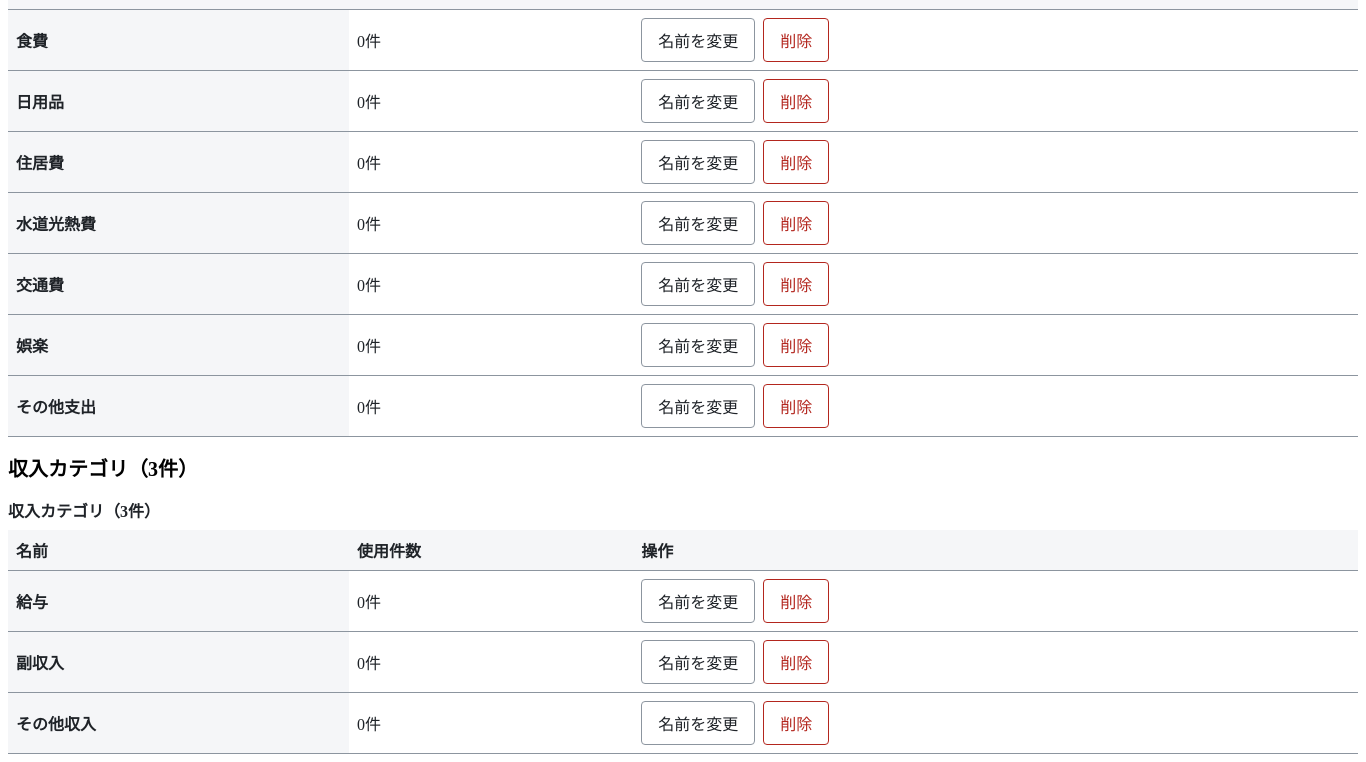
カテゴリの削除 › 種別の最後の1件は削除せず、理由を行の下に出す（BR3.4）
(page scrolled)
Click the button "削除" in the row of "給与".
click(796, 601)  # box [763,579,829,623]
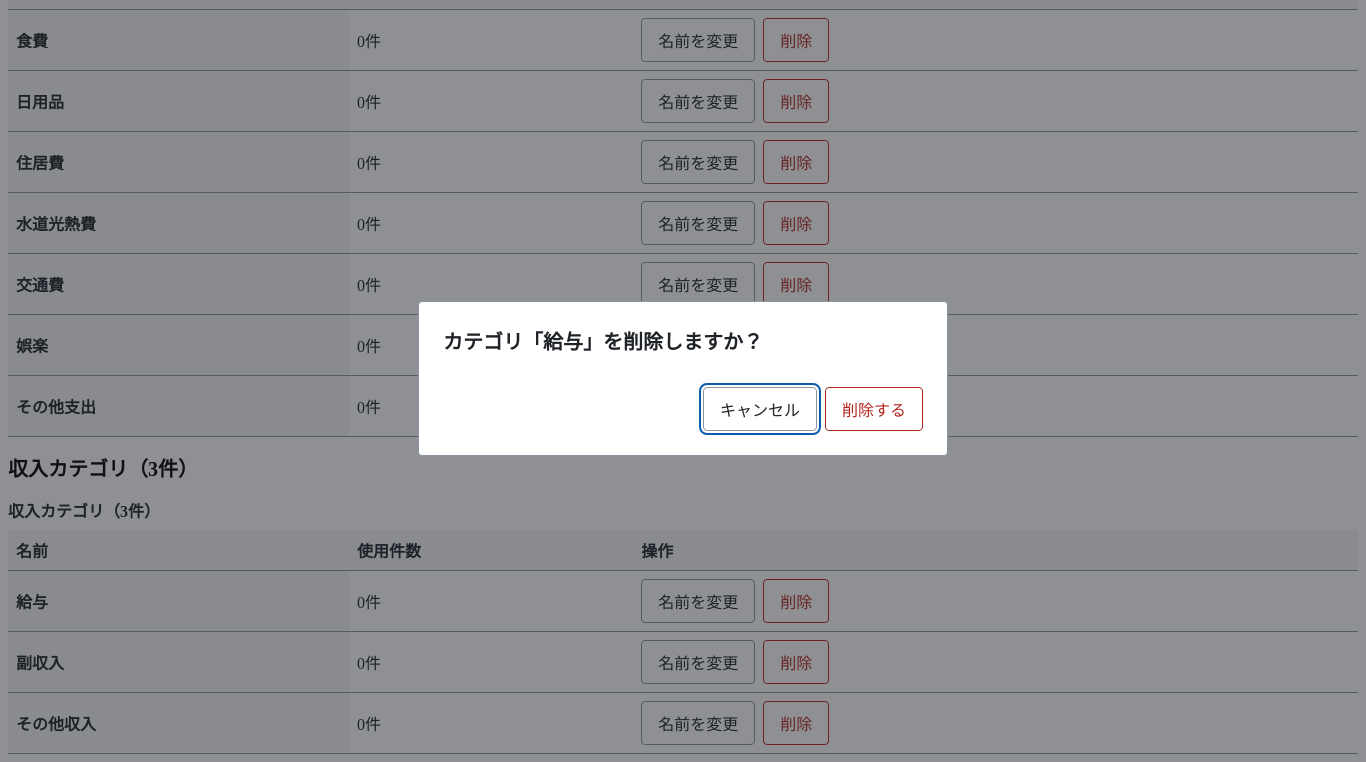
Click the button "削除する".
click(874, 408)  # box [825,386,923,430]
(page scrolled)
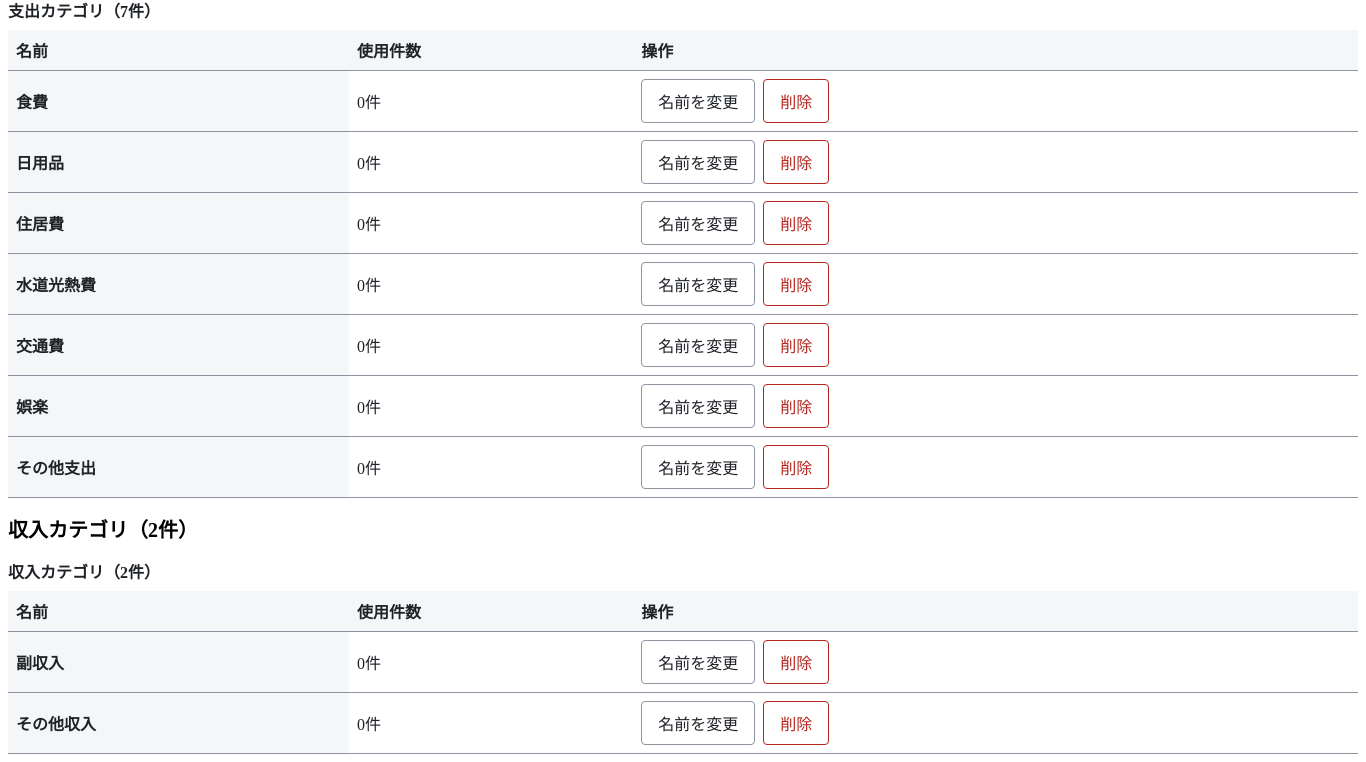
Click the button "削除" in the row of "副収入".
click(796, 662)  # box [763,640,829,684]
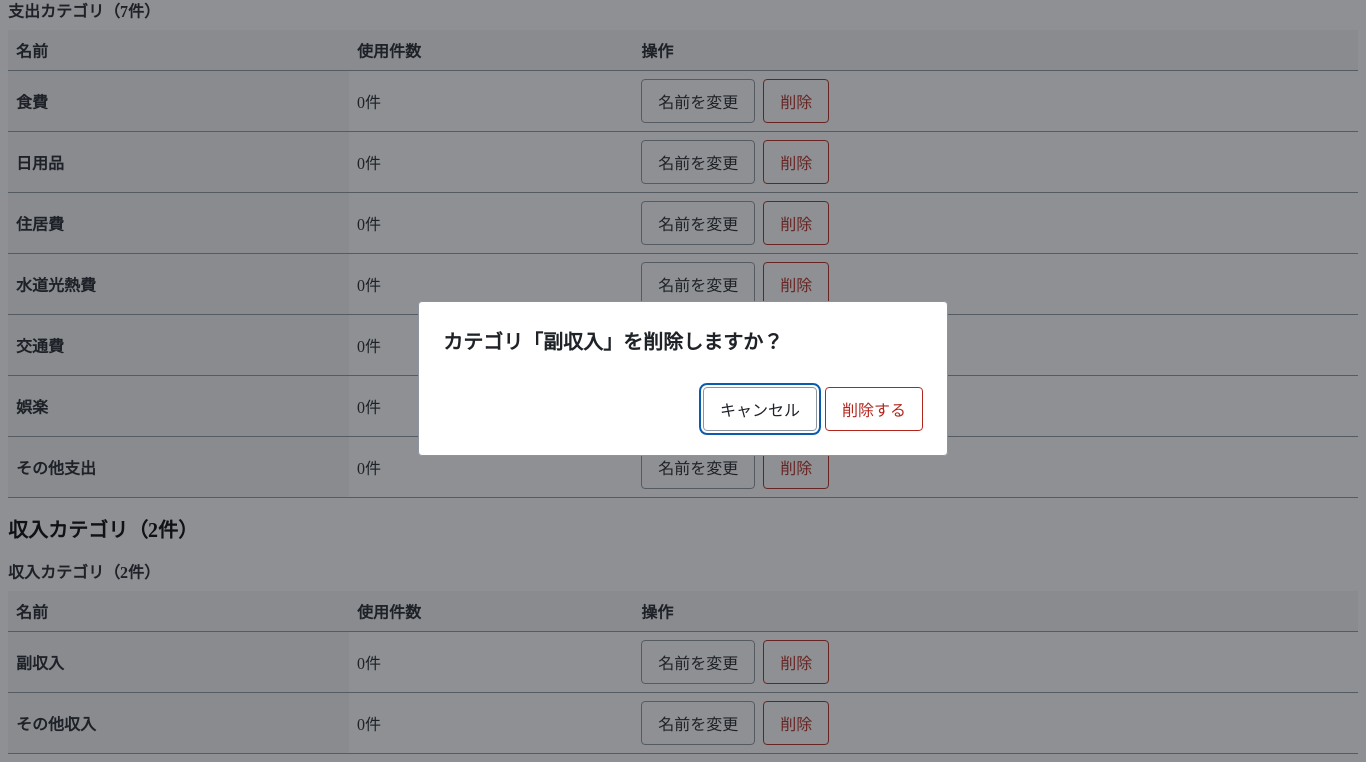
Click the button "削除する".
click(874, 408)  # box [825,386,923,430]
(page scrolled)
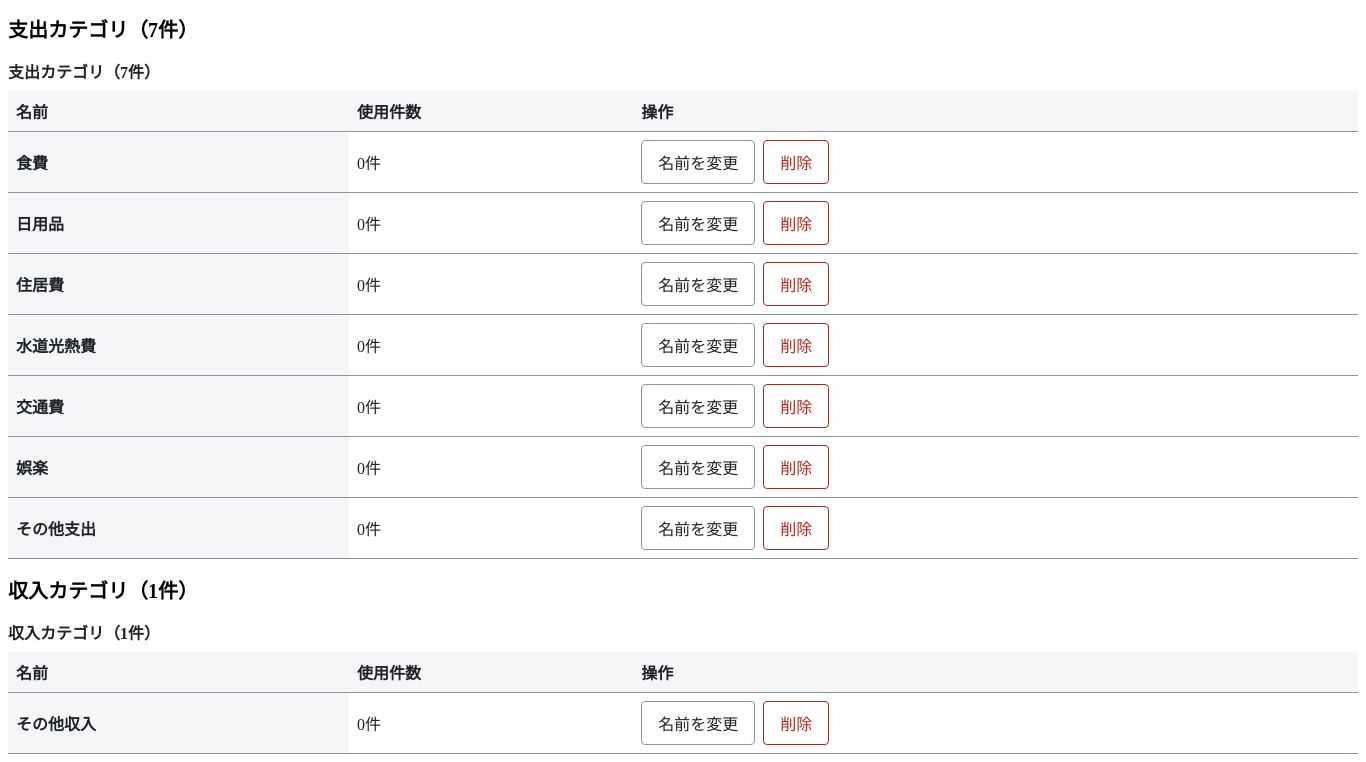
Click the button with aria-label "その他収入を削除".
click(796, 723)  # box [763,701,829,745]
(page scrolled)
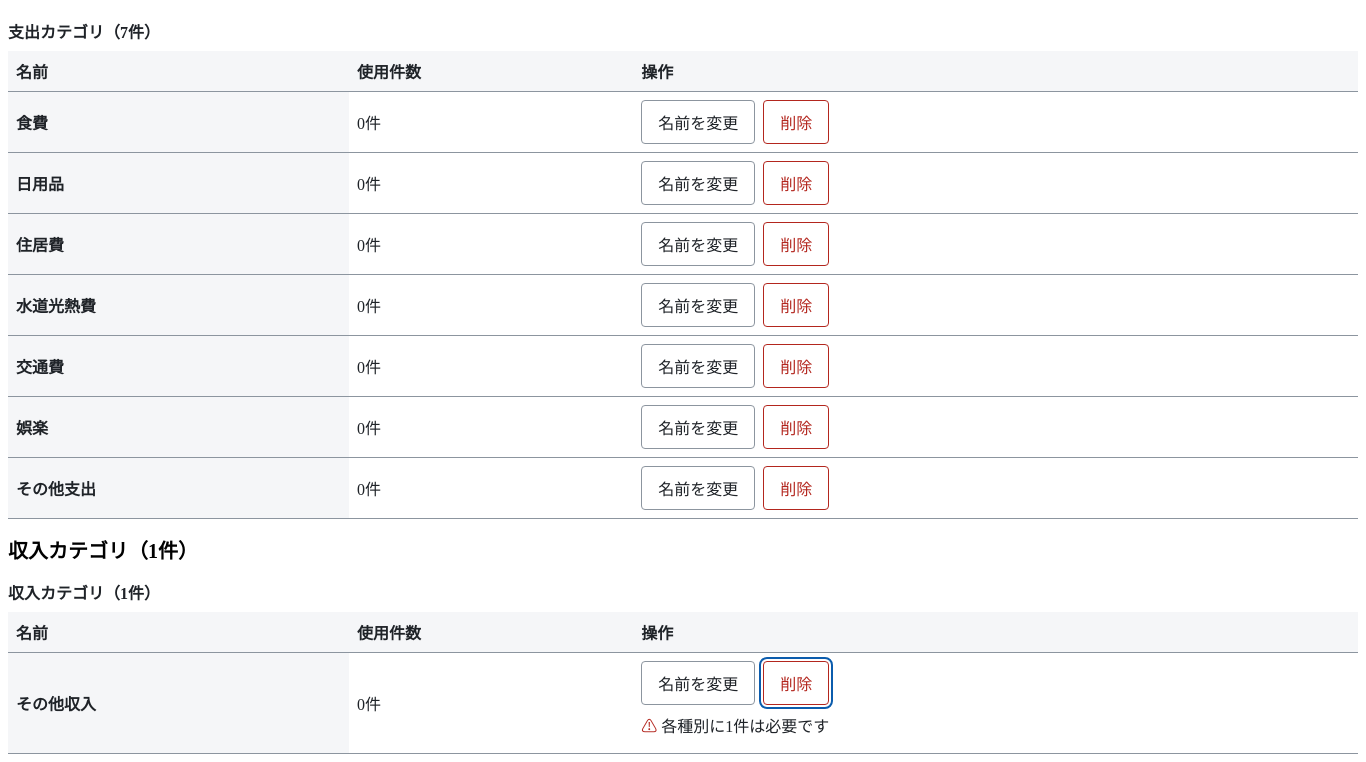
Now the text "各種別に1件は必要です" is shown, box [661,718,829,735]
